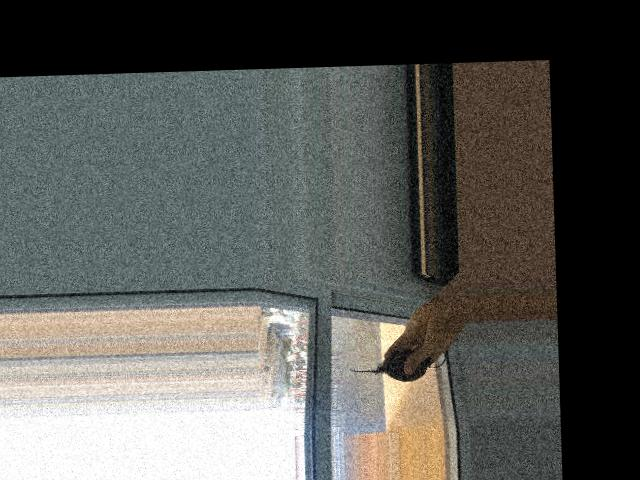beet: (347, 338, 446, 383)
